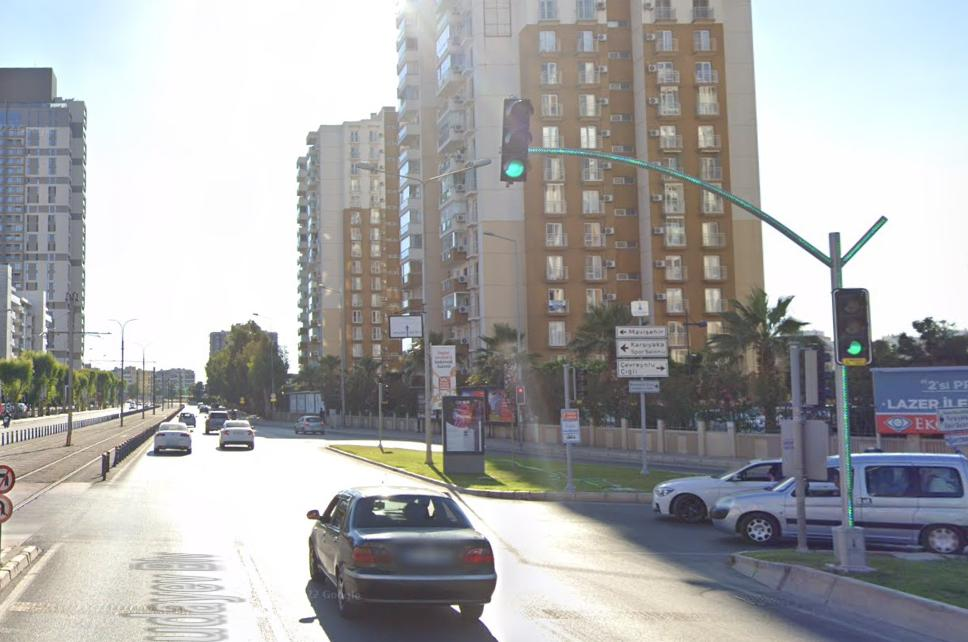greenlight: (834, 289, 872, 360), (500, 94, 530, 179)
